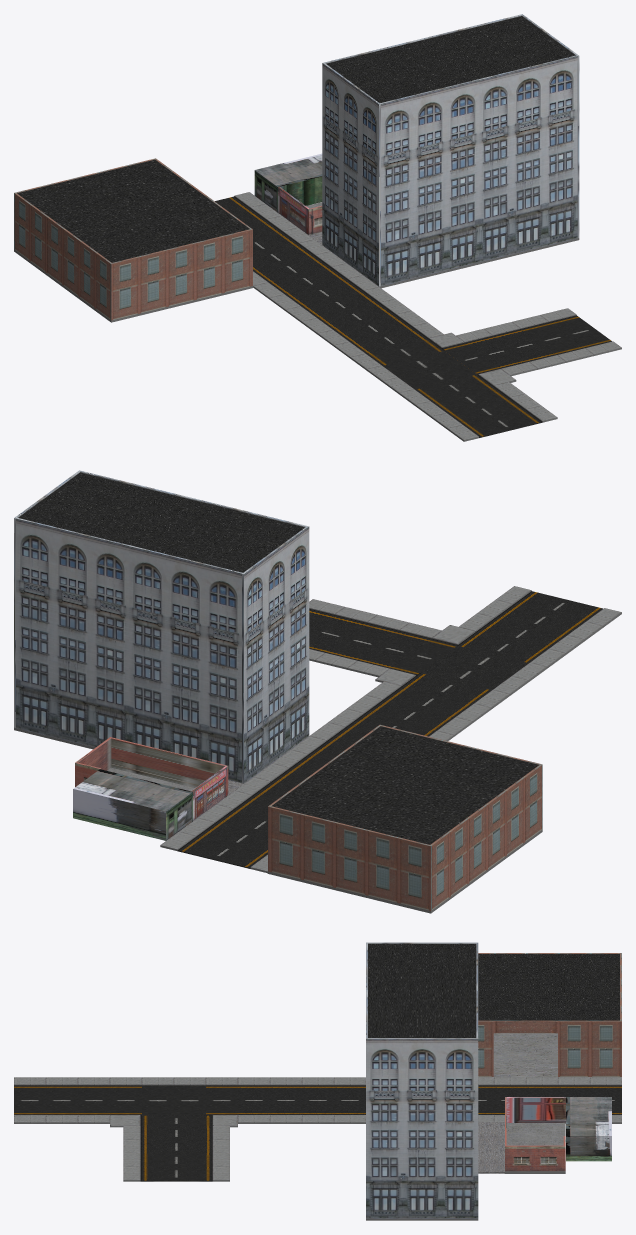
Rendered from cityScene.gltf.
The picture shows the model from 3 angles, top to bottom: view 1: azimuth 30°, elevation 25°; view 2: azimuth 150°, elevation 25°; view 3: azimuth 270°, elevation 25°; orthographic projection. The views are drawn at different scales.
Visible parts, largest first — view 1: Cube.035, Cube.034, Cube.028, Cube.031, Cube.037, Cube, Cube.019, Cube.018, Cube.021, Cube.009, Cube.020, roadWay.021 (+29 smaller); view 2: Cube.033, Cube.032, Cube.028, Cube.031, Cube.037, Cube, Cube.003, Cube.014, Cube.015, Cube.016, Cube.013, Cube.017 (+27 smaller); view 3: Cube.036, Cube.037, Cube.028, Cube.006, Cube, Cube.007, Cube.010, Cube.004, Cube.001, Cube.002, Cube.029, roadWay.015 (+20 smaller).
Boxes of the visible parts, x1,y1,x2,y2 form: Cube.035: (478,55,577,262); Cube.034: (380,79,479,286); Cube.028: (17,159,249,262); Cube.031: (322,62,380,286); Cube.037: (326,16,575,102); Cube: (254,153,322,212); Cube.019: (138,249,167,313); Cube.018: (167,243,195,306); Cube.021: (223,229,251,292); Cube.009: (110,256,139,320); Cube.020: (194,236,223,299); roadWay.021: (464,410,542,437); Cube.033: (16,517,129,747); Cube.032: (129,545,242,783); Cube.028: (271,726,538,844); Cube.031: (242,526,309,783); Cube.037: (18,472,304,572); Cube: (73,769,192,840); Cube.003: (111,737,228,795); Cube.014: (302,814,334,887); Cube.015: (366,830,399,903); Cube.016: (334,822,367,895); Cube.013: (270,806,302,879); Cube.017: (398,837,431,910); Cube.036: (366,1038,478,1218); Cube.037: (368,944,476,1037); Cube.028: (478,954,619,1020); Cube.006: (478,1033,621,1077); Cube: (566,1097,611,1161); Cube.007: (558,1020,589,1076); Cube.010: (590,1020,621,1076); Cube.004: (505,1145,565,1171); Cube.001: (504,1122,565,1173); Cube.002: (506,1097,565,1122); Cube.029: (478,1122,504,1173); roadWay.015: (140,1167,212,1181).
Size of the model in its own units: 60.43 by 24.45 by 74.03.
106 materials, 106 textured.
